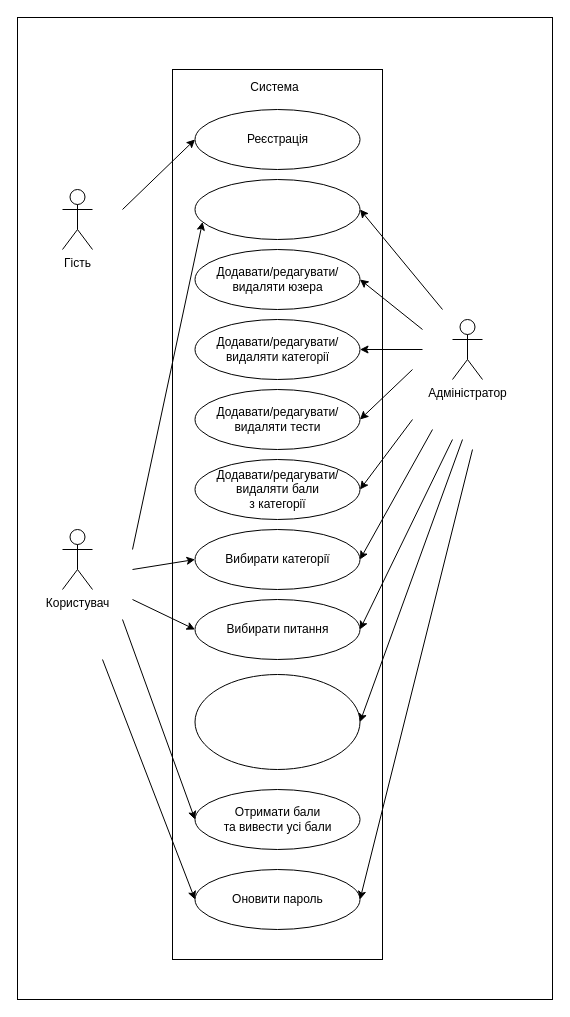
This 570x1017 diagram has some shape labels left out. Each missing label, with the centre of its shape:
Авторизація: the point at 277,209
Вивести кількість категорій/питань/ користувачів/балів: the point at 277,722
